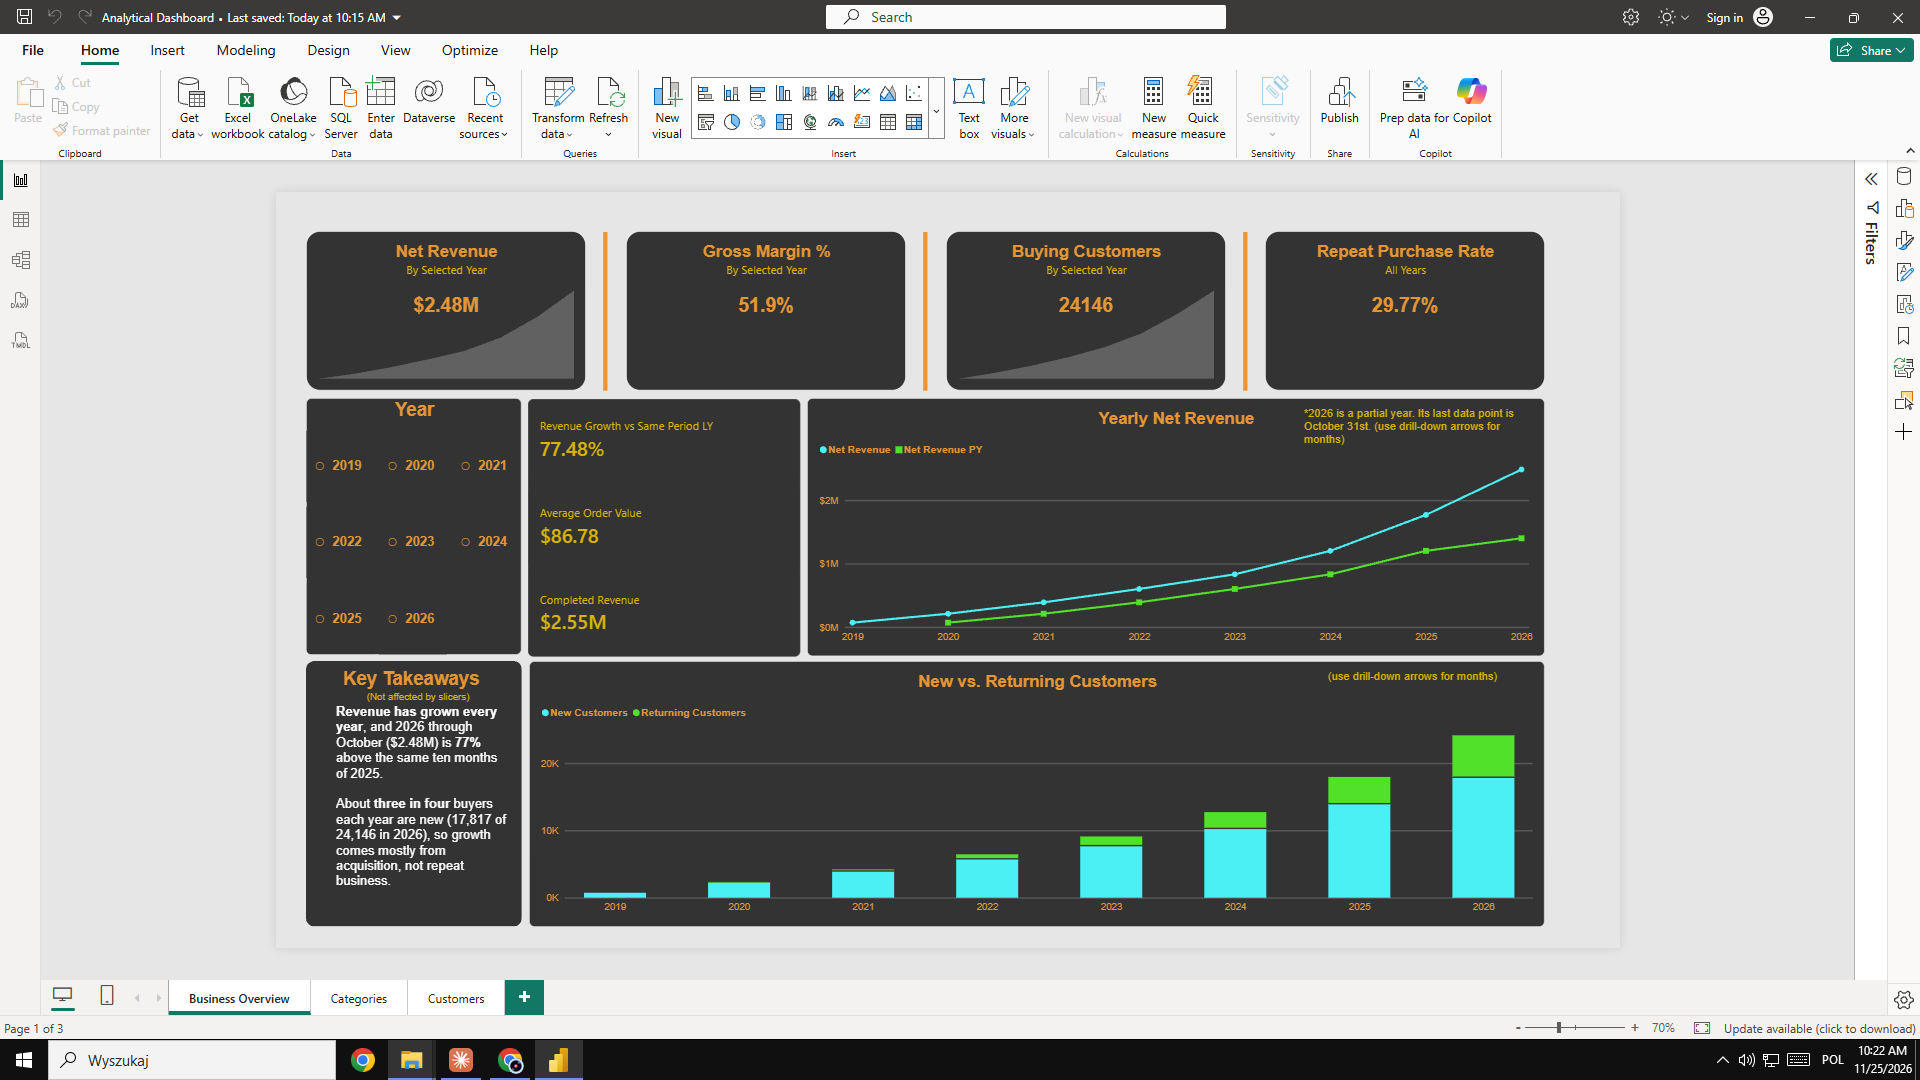

Layout of this report page (visuals, bound fields, positions):
{"tool":"powerbi","page":{"name":"Business Overview","canvas":[1920,1080],"ordinal":0},"visuals":[{"type":"kpi","title":"Net Revenue","fields":{"Indicator":["Measure Table.Net Revenue"],"TrendLine":["Dim_Date.Year"]},"box":[42.3,55.9,400,228.3],"z":0},{"type":"shape","title":"Key Takeaways","box":[42.3,669.7,308.4,379.5],"z":0,"group":"g1"},{"type":"kpi","title":"Gross Margin %","fields":{"Indicator":["Measure Table.Gross Margin %"],"TrendLine":["Dim_Date.Year"]},"box":[499.4,55.9,400,228.3],"z":1000},{"type":"textbox","box":[94.7,679.2,214.7,54.4],"z":1000,"group":"g1"},{"type":"kpi","title":"Buying Customers","fields":{"Indicator":["Measure Table.Buying Customers"],"TrendLine":["Dim_Date.Year"]},"box":[956.5,55.9,400,228.3],"z":2000},{"type":"kpi","title":"Repeat Purchase Rate","fields":{"Indicator":["Measure Table.Repeat Purchase Rate"],"TrendLine":["Dim_Date.Year"]},"box":[1413.5,55.9,400,228.3],"z":3000},{"type":"shape","box":[397.5,57.4,146.6,226.8],"z":4000},{"type":"textbox","box":[85.2,730.5,250,309.2],"z":4001,"group":"g1"},{"type":"lineChart","title":"Yearly Net Revenue","fields":{"Category":["Dim_Date.Year Hierarchy.Year","Dim_Date.Year Hierarchy.Quarter","Dim_Date.Year Hierarchy.Month"],"Y":["Measure Table.Net Revenue","Measure Table.Net Revenue PY"]},"box":[758.9,294.8,1053.7,368.9],"z":5000},{"type":"columnChart","title":"New vs. Returning Customers","fields":{"Category":["Dim_Date.Year Hierarchy.Year","Dim_Date.Year Hierarchy.Quarter","Dim_Date.Year Hierarchy.Month"],"Y":["Measure Table.New Customers","Measure Table.Returning Customers"]},"box":[361.3,669.7,1451.3,379.8],"z":6000},{"type":"advancedSlicerVisual","fields":{"Values":["Dim_Date.Year Hierarchy.Year"]},"box":[42.3,294.8,308.4,367.4],"z":7000},{"type":"textbox","box":[1468,305.4,328.1,65],"z":8000},{"type":"group","id":"g1","title":"Categories Key Takeaways Card","box":[42.3,669.7,308.4,379.5],"z":9000},{"type":"cardVisual","title":"All years ","fields":{"Data":["Measure Table.Revenue Growth vs Same Period LY","Measure Table.Average Order Value","Measure Table.Completed Revenue"]},"box":[360.5,295.1,389,367.9],"z":10000},{"type":"shape","box":[1311.7,57.4,146.6,226.8],"z":11000},{"type":"shape","box":[854.6,57.4,146.6,226.8],"z":12000},{"type":"textbox","box":[1502.7,681.8,258.5,24.2],"z":13000}]}

Visuals, with their boxes on the page's 1920x1080 design canvas (x1, y1, x2, y2). These are canvas units, not pixel positions in the 1920x1080 screenshot, which may show the page scaled, cropped or inside an application window:
"Net Revenue" kpi: (42, 56, 442, 284)
"Key Takeaways" shape: (42, 670, 351, 1049)
"Gross Margin %" kpi: (499, 56, 899, 284)
textbox: (95, 679, 309, 734)
"Buying Customers" kpi: (956, 56, 1356, 284)
"Repeat Purchase Rate" kpi: (1414, 56, 1814, 284)
shape: (398, 57, 544, 284)
textbox: (85, 730, 335, 1040)
"Yearly Net Revenue" lineChart: (759, 295, 1813, 664)
"New vs. Returning Customers" columnChart: (361, 670, 1813, 1050)
advancedSlicerVisual - Dim_Date.Year Hierarchy.Year: (42, 295, 351, 662)
textbox: (1468, 305, 1796, 370)
"Categories Key Takeaways Card" group: (42, 670, 351, 1049)
"All years " cardVisual: (360, 295, 750, 663)
shape: (1312, 57, 1458, 284)
shape: (855, 57, 1001, 284)
textbox: (1503, 682, 1761, 706)
